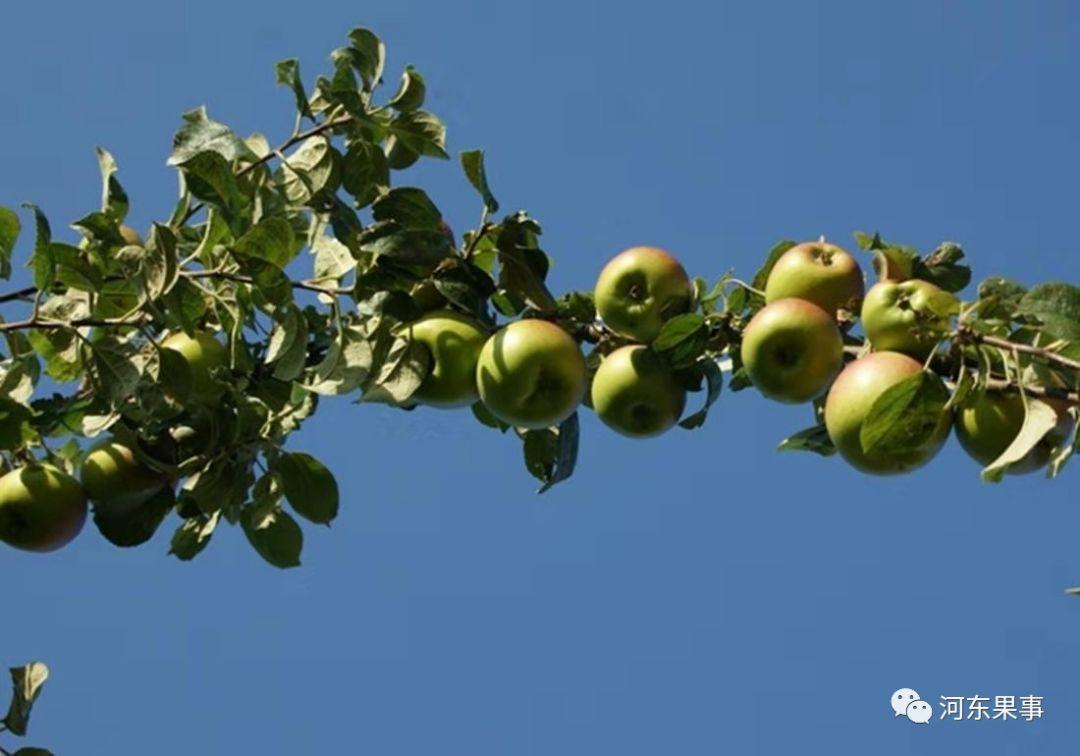apple: (820, 348, 951, 474), (475, 314, 585, 425), (743, 296, 843, 401), (587, 344, 687, 440), (590, 245, 694, 337), (763, 240, 863, 335), (392, 311, 486, 409), (1, 461, 85, 552), (862, 279, 950, 352)
